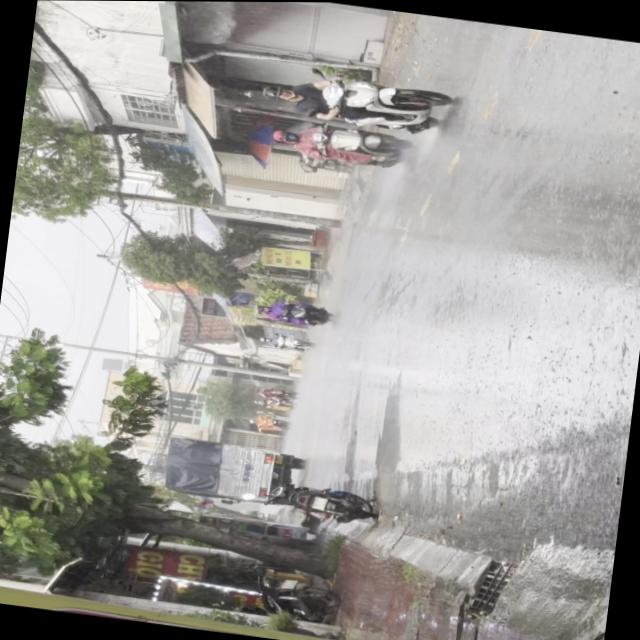helmet: (260, 80, 296, 100), (270, 128, 300, 143)
licenseplate: (256, 61, 456, 137), (267, 115, 417, 175)
nohelmet: (310, 494, 326, 508)
